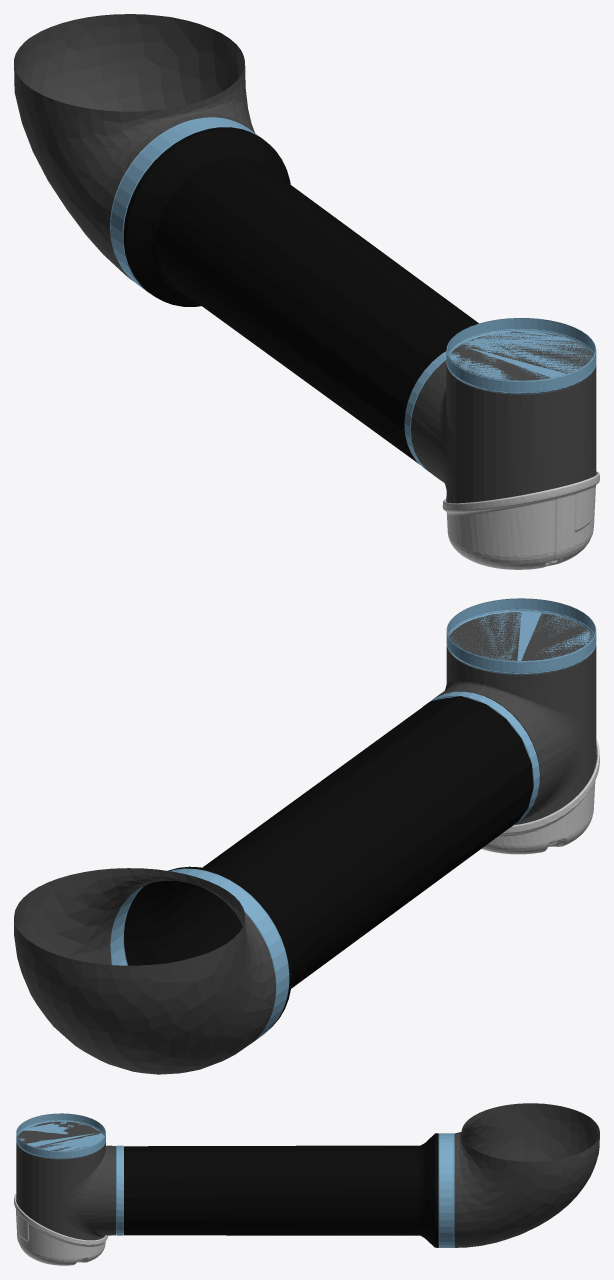
Rendered from forearm.obj.
3 views of the same model, one above another, from view 1: azimuth 30°, elevation 25°; view 2: azimuth 150°, elevation 25°; view 3: azimuth 270°, elevation 25° (orthographic). The views are drawn at different scales.
Parts seen in each view (by area): view 1: eSeries_UR5e_079-mesh, eSeries_UR5e_077-mesh, eSeries_UR5e_028-mesh, eSeries_UR5e_081-mesh, eSeries_UR5e_082-mesh, eSeries_UR5e_078-mesh, eSeries_UR5e_080-mesh; view 2: eSeries_UR5e_079-mesh, eSeries_UR5e_077-mesh, eSeries_UR5e_028-mesh, eSeries_UR5e_082-mesh, eSeries_UR5e_078-mesh, eSeries_UR5e_081-mesh, eSeries_UR5e_080-mesh; view 3: eSeries_UR5e_079-mesh, eSeries_UR5e_077-mesh, eSeries_UR5e_028-mesh, eSeries_UR5e_081-mesh, eSeries_UR5e_082-mesh, eSeries_UR5e_078-mesh, eSeries_UR5e_080-mesh.
Part boxes in pixels (left/top/right/bottom): eSeries_UR5e_079-mesh: left=123, top=127, right=478, bottom=464; eSeries_UR5e_077-mesh: left=14, top=14, right=254, bottom=281; eSeries_UR5e_028-mesh: left=410, top=331, right=596, bottom=503; eSeries_UR5e_081-mesh: left=442, top=471, right=599, bottom=569; eSeries_UR5e_082-mesh: left=446, top=318, right=596, bottom=394; eSeries_UR5e_078-mesh: left=110, top=117, right=259, bottom=295; eSeries_UR5e_080-mesh: left=404, top=351, right=446, bottom=471; eSeries_UR5e_079-mesh: left=124, top=696, right=533, bottom=1028; eSeries_UR5e_077-mesh: left=14, top=868, right=275, bottom=1074; eSeries_UR5e_028-mesh: left=434, top=612, right=596, bottom=824; eSeries_UR5e_082-mesh: left=446, top=598, right=596, bottom=674; eSeries_UR5e_078-mesh: left=110, top=868, right=289, bottom=1043; eSeries_UR5e_081-mesh: left=481, top=739, right=599, bottom=854; eSeries_UR5e_080-mesh: left=423, top=691, right=539, bottom=828; eSeries_UR5e_079-mesh: left=124, top=1133, right=438, bottom=1247; eSeries_UR5e_077-mesh: left=454, top=1103, right=599, bottom=1247; eSeries_UR5e_028-mesh: left=16, top=1121, right=115, bottom=1240; eSeries_UR5e_081-mesh: left=14, top=1194, right=107, bottom=1265; eSeries_UR5e_082-mesh: left=16, top=1113, right=105, bottom=1159; eSeries_UR5e_078-mesh: left=438, top=1133, right=454, bottom=1247; eSeries_UR5e_080-mesh: left=116, top=1145, right=123, bottom=1235.
Bounding box in the file's own units: 0.1158 × 0.1099 × 0.4894.
